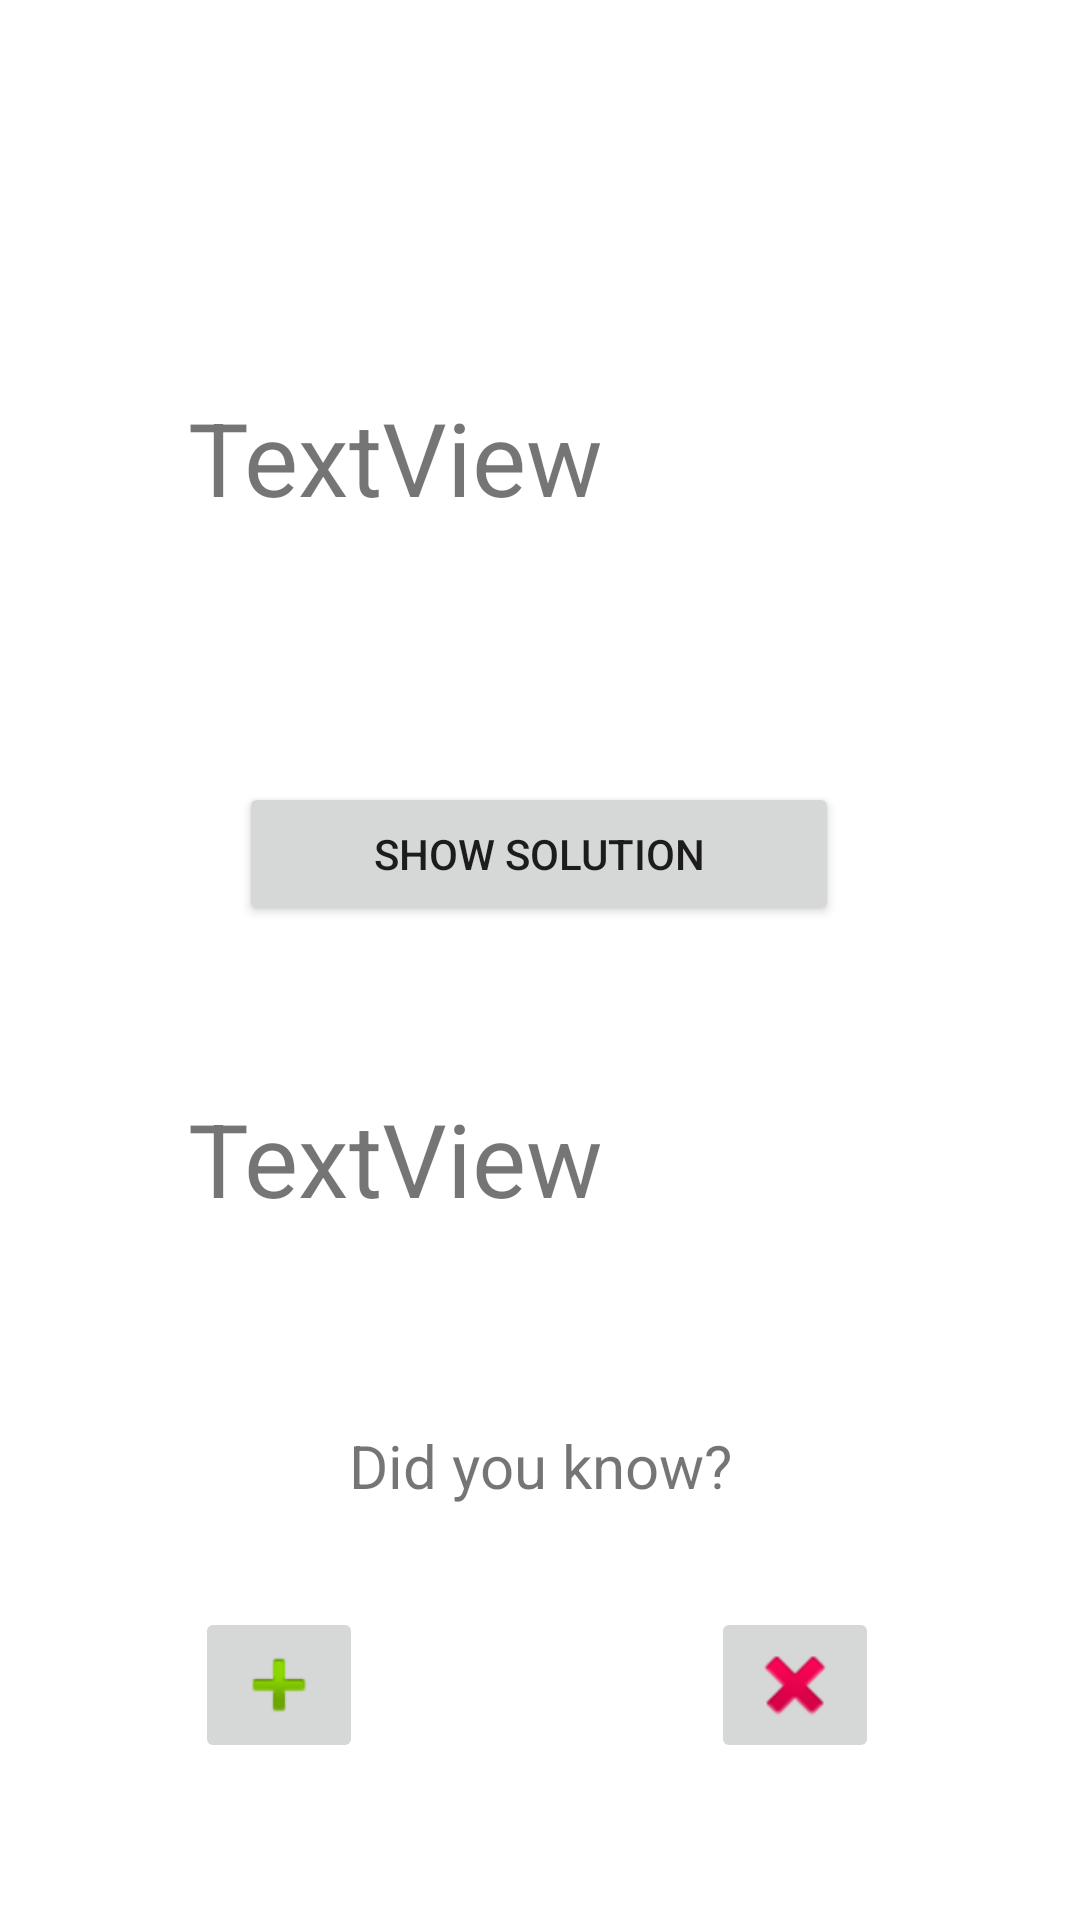

Where to tap for icons on this 1080x1920 app screen, as (x,y):
add: (279,1685)
delete: (795,1685)
